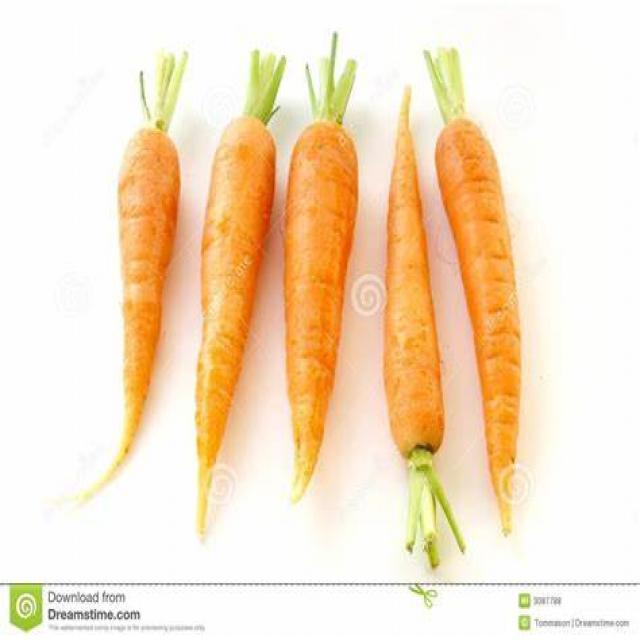Carrot: (426, 47, 523, 541), (381, 85, 468, 561), (189, 48, 272, 540), (284, 44, 359, 519), (116, 55, 181, 468)
